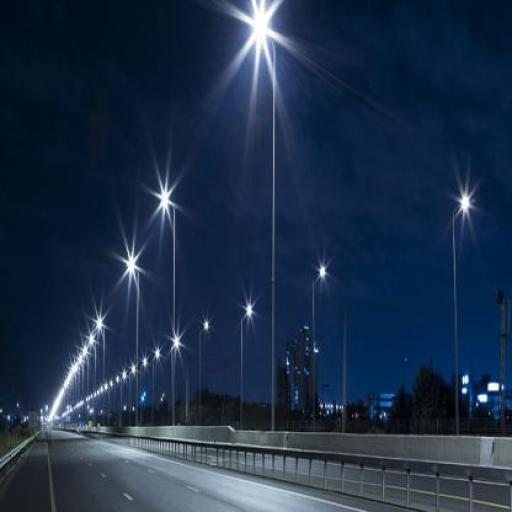street light: (254, 16, 276, 426), (452, 195, 470, 438), (160, 189, 176, 426), (312, 266, 326, 429), (126, 254, 138, 422), (240, 304, 253, 432), (96, 315, 106, 427), (200, 320, 210, 425), (171, 332, 179, 430), (139, 356, 148, 424), (128, 363, 137, 426), (153, 348, 160, 424)
